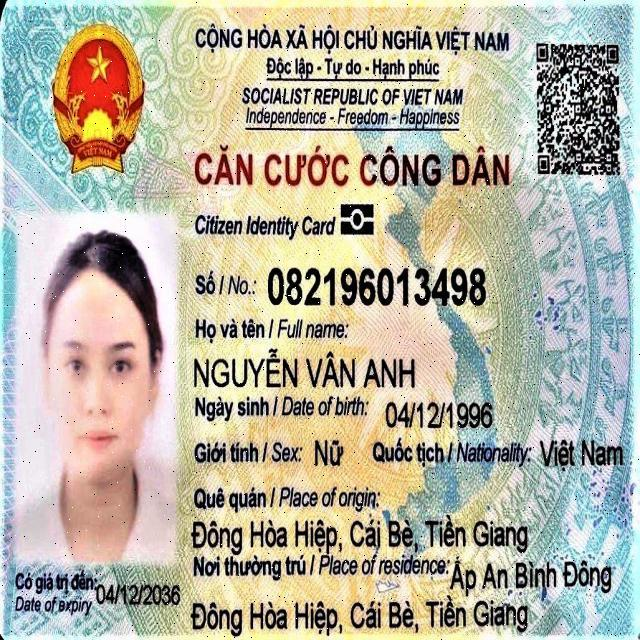current_place: (187, 594, 537, 640), (448, 550, 617, 601)
dob: (381, 391, 498, 436)
expire_date: (94, 574, 184, 613)
gender: (309, 431, 348, 474)
id: (262, 258, 490, 314)
name: (189, 342, 420, 395)
nationality: (536, 432, 628, 476)
origin_place: (186, 511, 531, 557)
qr: (532, 36, 629, 186)
